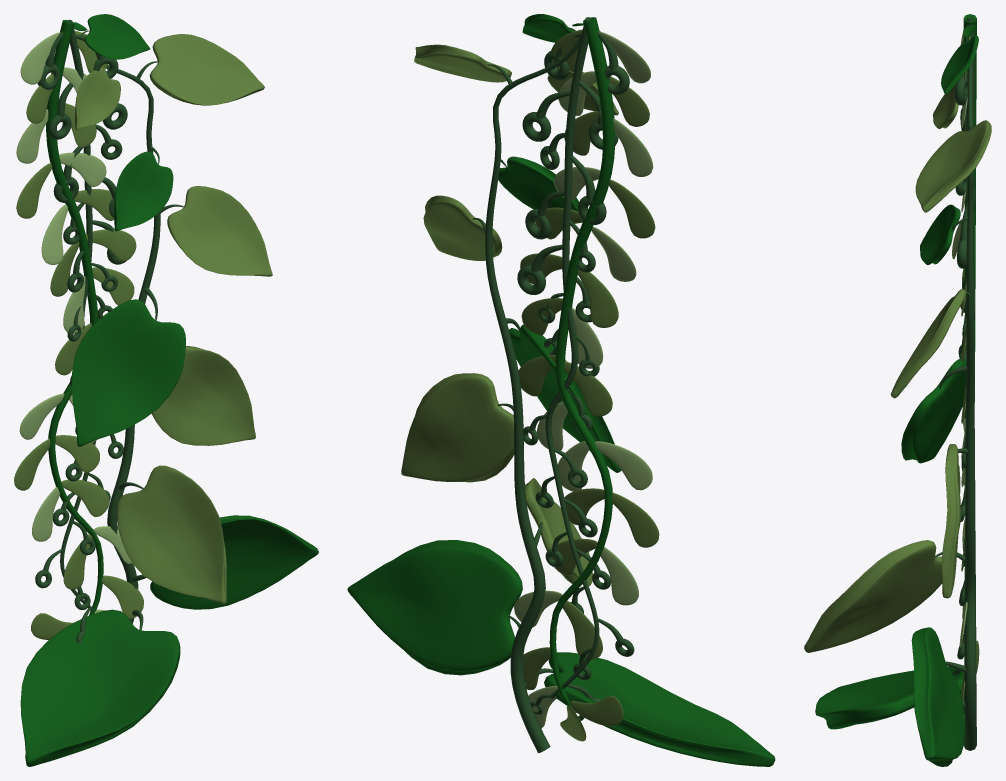
Rendered from Project02_Vines.fbx.
The picture shows the model from 3 angles, left to right: view 1: azimuth 30°, elevation 25°; view 2: azimuth 150°, elevation 25°; view 3: azimuth 270°, elevation 25°; orthographic projection. The views are drawn at different scales.
Visible parts, largest first — view 1: Vine_01, VIne_03, Vine_02; view 2: Vine_01, VIne_03, Vine_02; view 3: Vine_01, Vine_02, VIne_03.
Boxes of the visible parts, box(x1,y1,x2,y2) form: Vine_01: box(20, 14, 318, 766); VIne_03: box(14, 20, 143, 639); Vine_02: box(35, 19, 127, 643); Vine_01: box(347, 14, 775, 766); VIne_03: box(514, 17, 659, 741); Vine_02: box(517, 17, 634, 720); Vine_01: box(804, 25, 991, 766); Vine_02: box(952, 18, 974, 675); VIne_03: box(952, 14, 979, 718).
Bounding box in the file's own units: 128 × 249 × 57.64.
